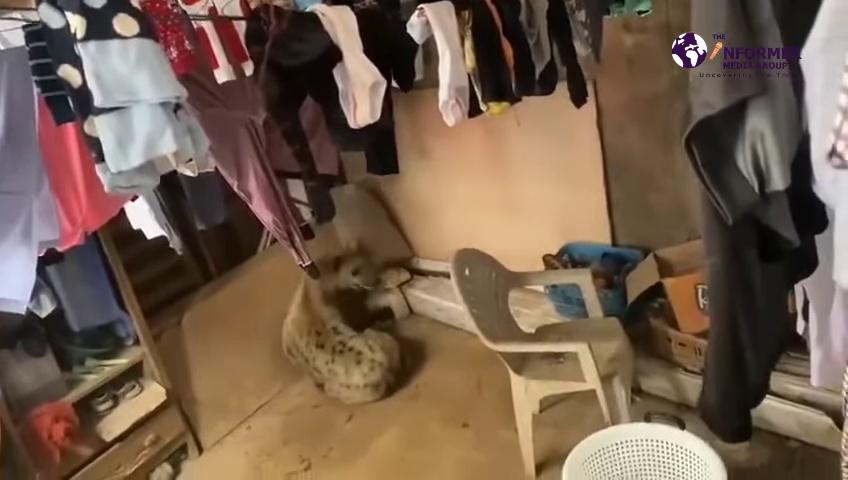hyenas: (283, 242, 410, 407)
